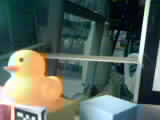duck: (3, 44, 66, 106)
